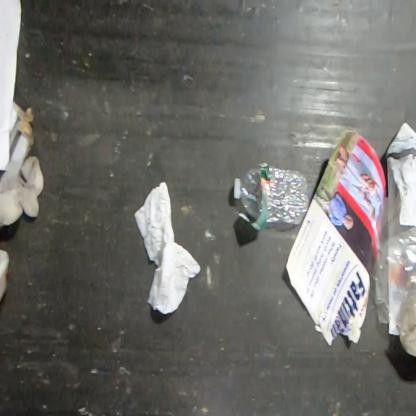cardboard: (284, 197, 372, 347), (0, 155, 45, 227), (9, 100, 36, 164), (0, 248, 11, 305)
rigid_plastic: (233, 161, 310, 226)
soft_plastic: (368, 194, 416, 328)
